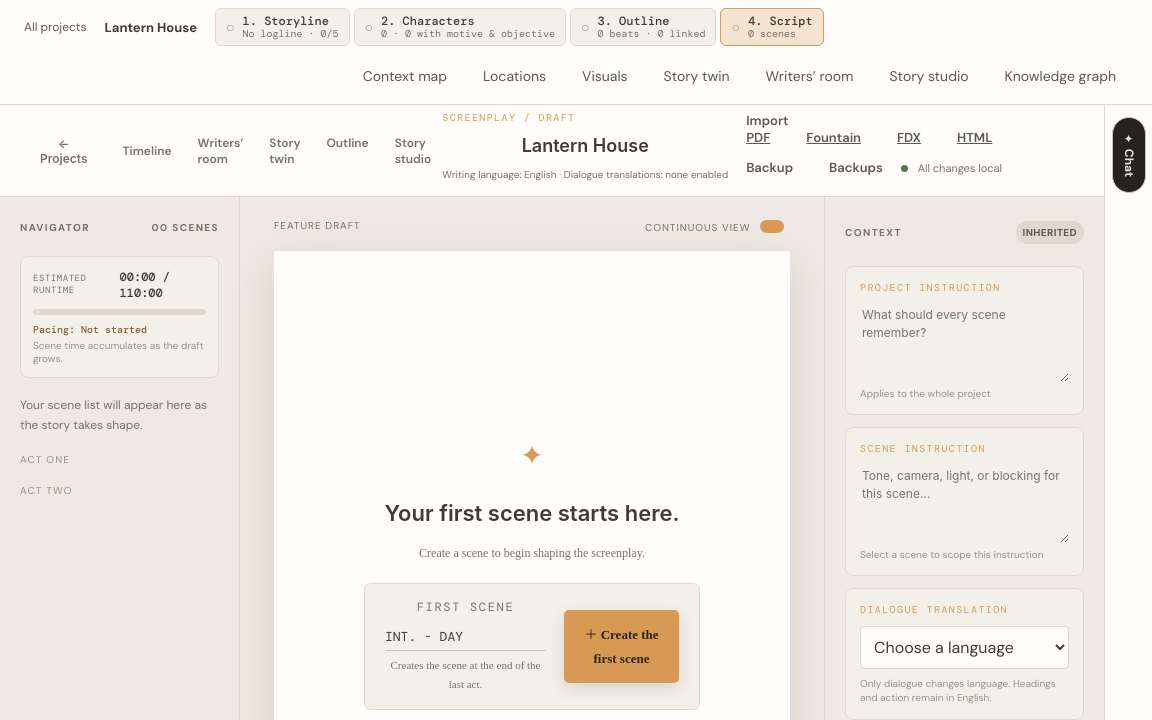
Test: Script workspace › creates the first scene of an empty project
The image size is (1152, 720).
Expected: the heading "Your first scene starts here." is shown, [364,500,700,526]
Replace the text in the field named "New scene heading" with "INT. ATTIC - NIGHT" at point(466, 637), box [385,623,546,651]
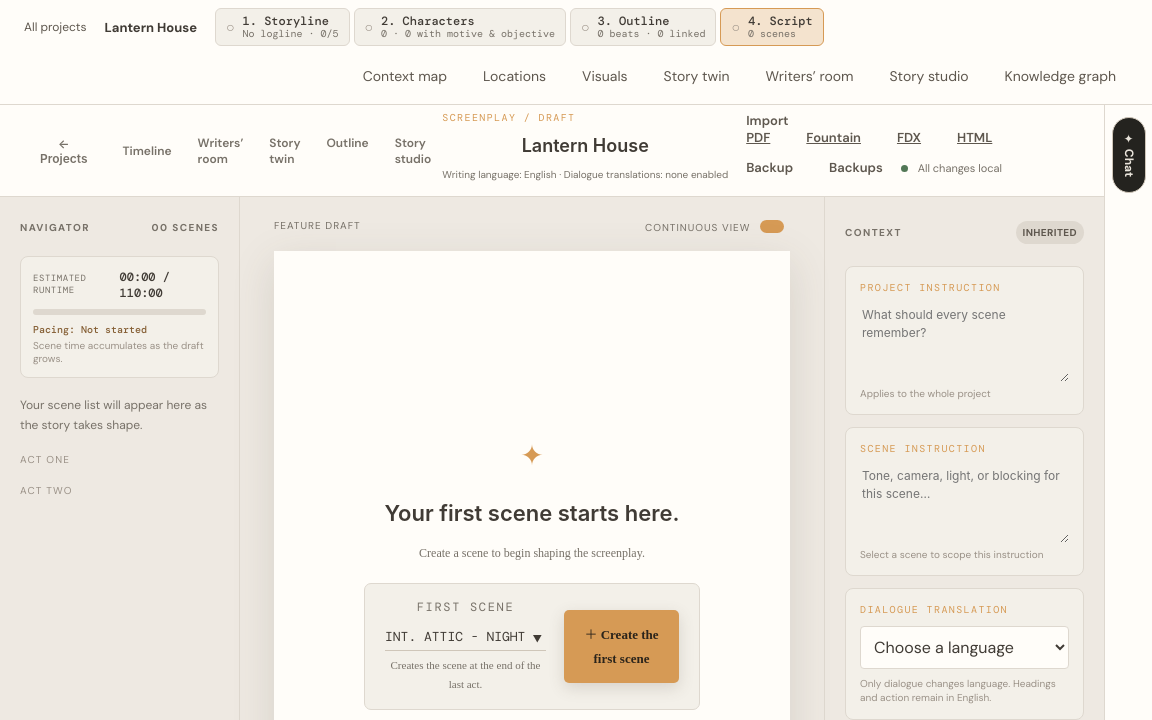
Click the button "＋ Create the first scene".
click(622, 647)  # box [564,610,679,683]
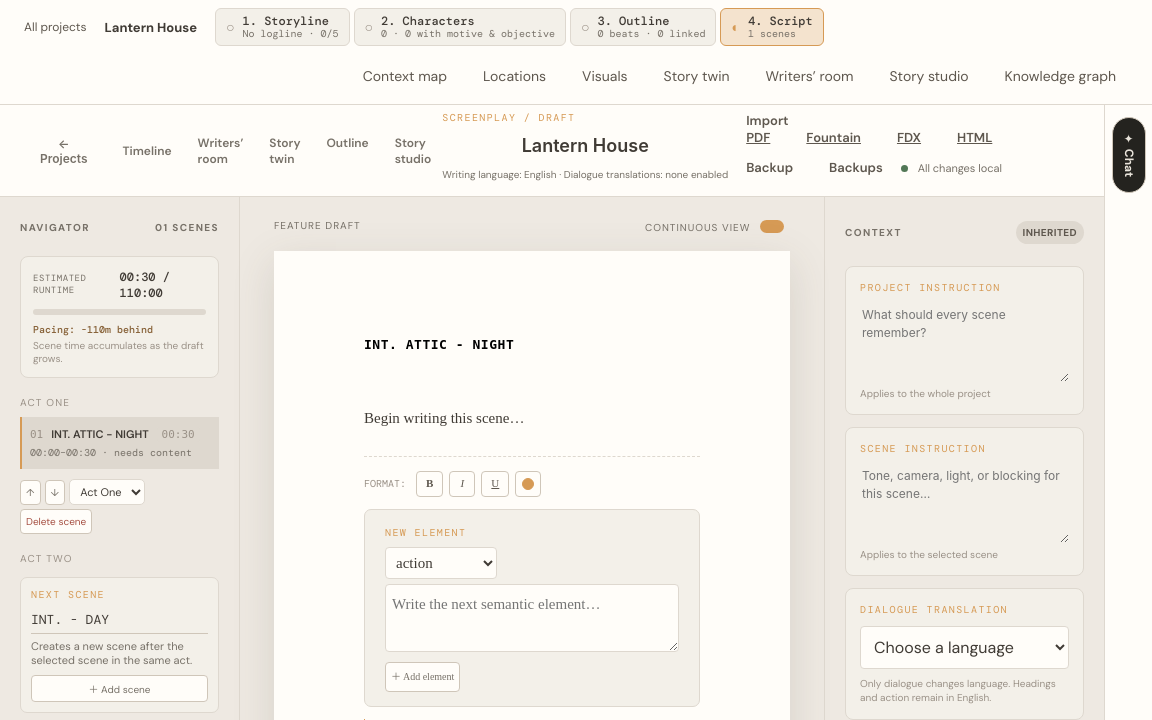
Result: the field showing "INT. ATTIC - NIGHT" is shown at [364,336,700,355]
